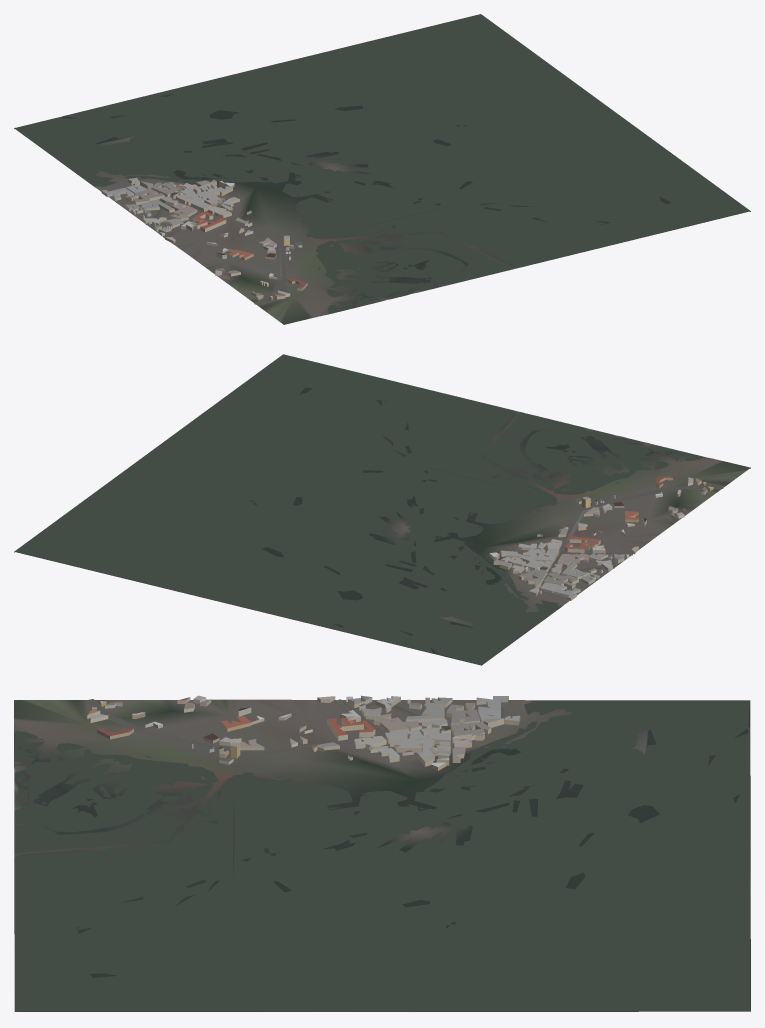
3 renders of one model, top to bottom at view 1: azimuth 30°, elevation 25°; view 2: azimuth 150°, elevation 25°; view 3: azimuth 270°, elevation 25°, orthographic. The views are drawn at different scales.
Parts seen in each view (by area): view 1: water, ground, buildings, roads; view 2: water, ground, buildings, roads; view 3: water, ground, buildings, roads.
Part boxes in pixels (x1,y1,x2,y2): water: (15, 14, 749, 313); ground: (14, 37, 750, 324); buildings: (101, 177, 307, 300); roads: (146, 196, 286, 305); water: (15, 354, 703, 664); ground: (14, 358, 750, 665); buildings: (489, 476, 713, 600); roads: (539, 486, 723, 596); water: (14, 700, 750, 1011); ground: (14, 699, 750, 1011); buildings: (87, 695, 520, 770); roads: (85, 699, 504, 756).
Size of the model in its own units: 1406 by 28.23 by 1402.
